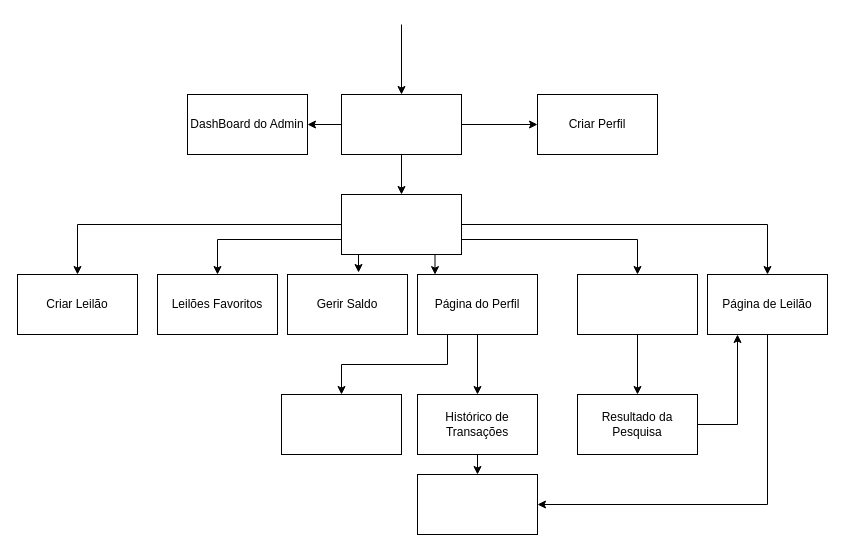
This 845x552 diagram has some shape labels left out. The box of each missing label's shape, as (x1, y1, x2, y2) in pixels:
Alterar Dados da Conta: (280, 394, 402, 454)
Pesquisar Leilões: (576, 274, 698, 334)
Página do Login: (340, 94, 462, 154)
Página Inicial: (340, 194, 462, 254)
Transação: (416, 474, 538, 534)
